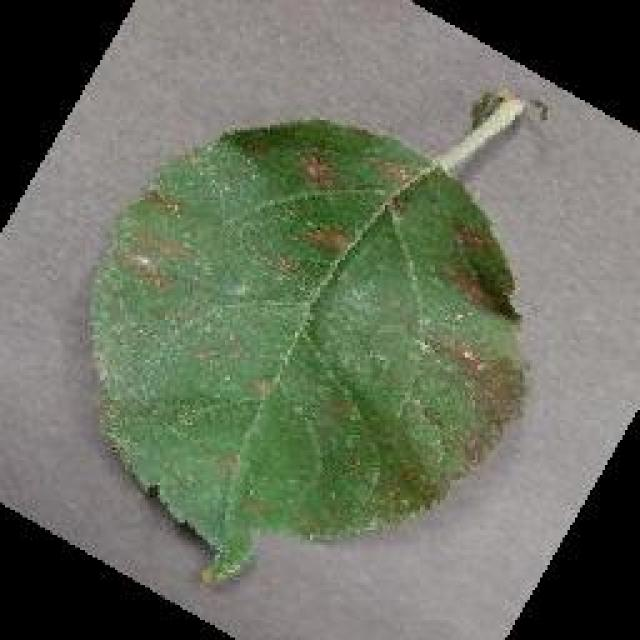apple cedar apple rust: (83, 90, 535, 588)
